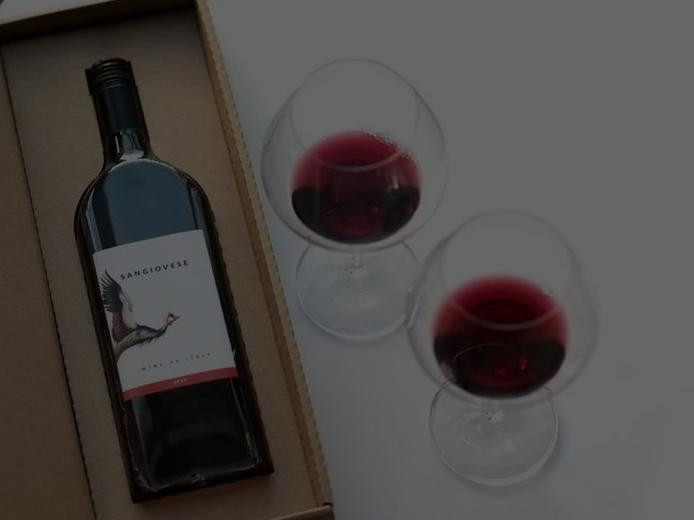wine bottle: (74, 58, 276, 503)
wine label: (91, 228, 240, 401)
